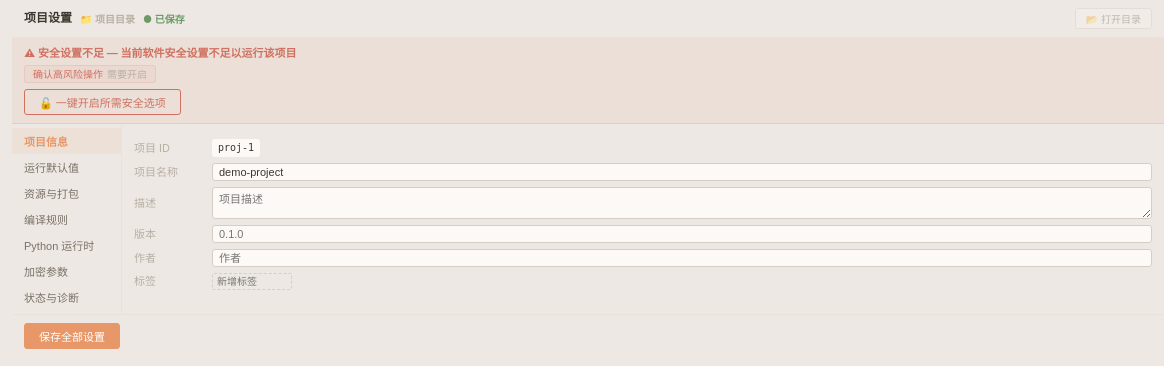
Test case: ProjectSettingsPanel › 显示调试历史保留上限字段
What coordinates should you click on to do the following:
click the button "编译规则"
I would click on:
 (66, 219)
Its box is [12,206,121,232].
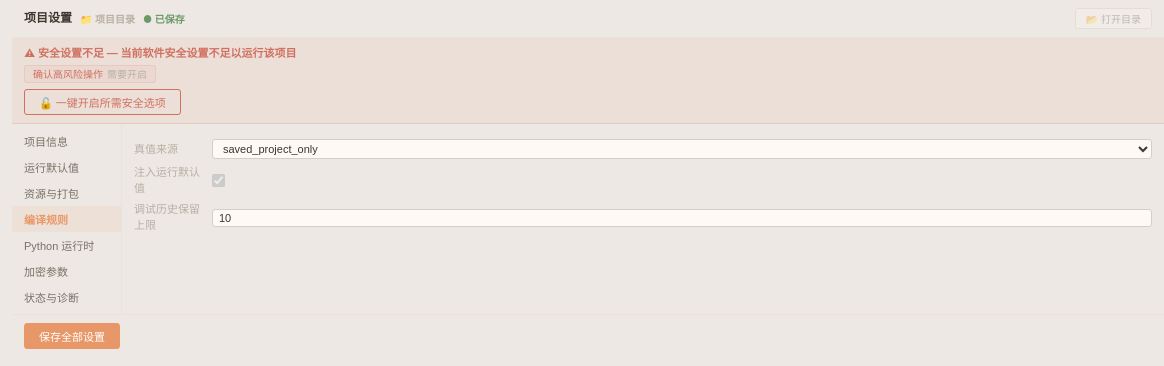
Expected: the text "确认高风险操作" is shown, [33,67,103,81]
Now the text "调试历史保留上限" is shown, box [134,202,204,233]
